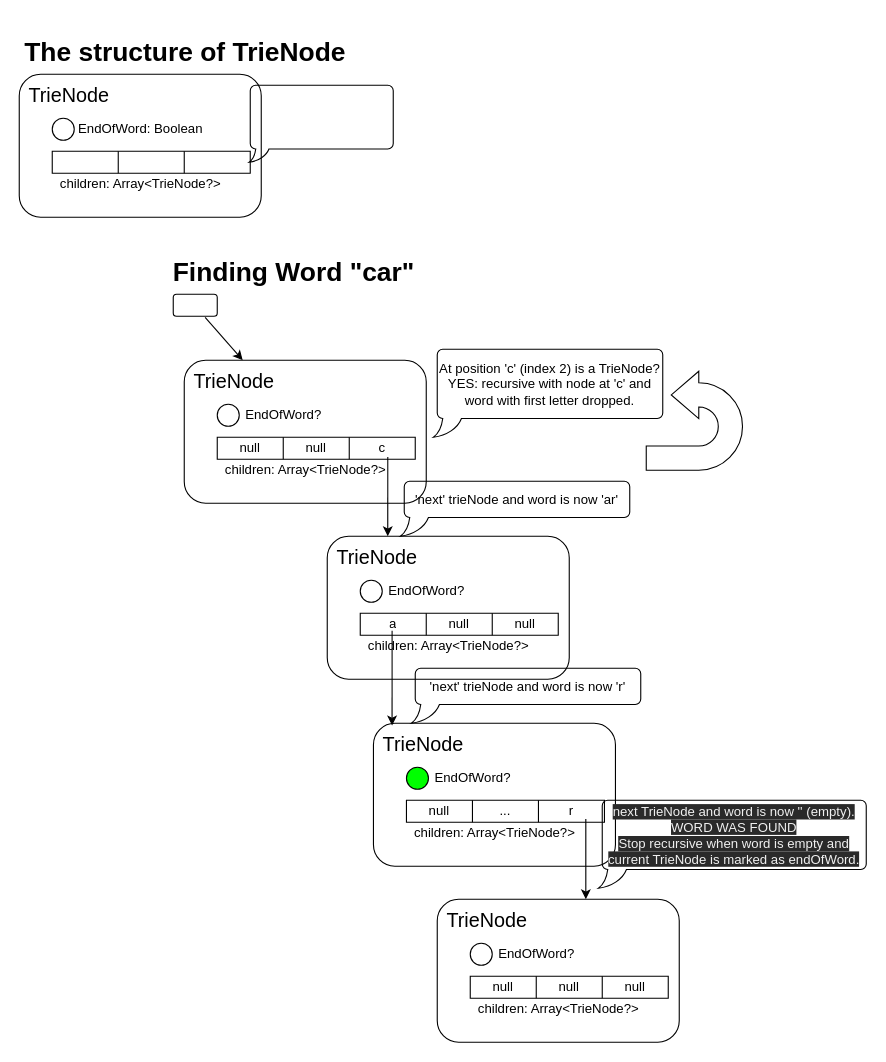
Image size: 886x1062. Some labels were removed from this diagram. Each missing label, with the box of its shape:
index of array is mapped to alphabet 0 => a, 25 => z: (249, 84, 393, 162)
Root: (172, 293, 217, 316)
